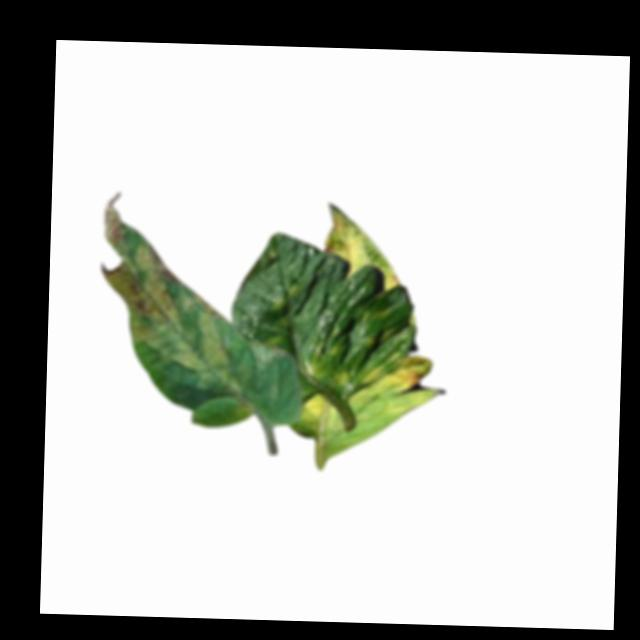Leaf_Mold: (95, 198, 247, 397), (321, 201, 403, 292), (362, 355, 446, 418), (297, 390, 343, 441)
